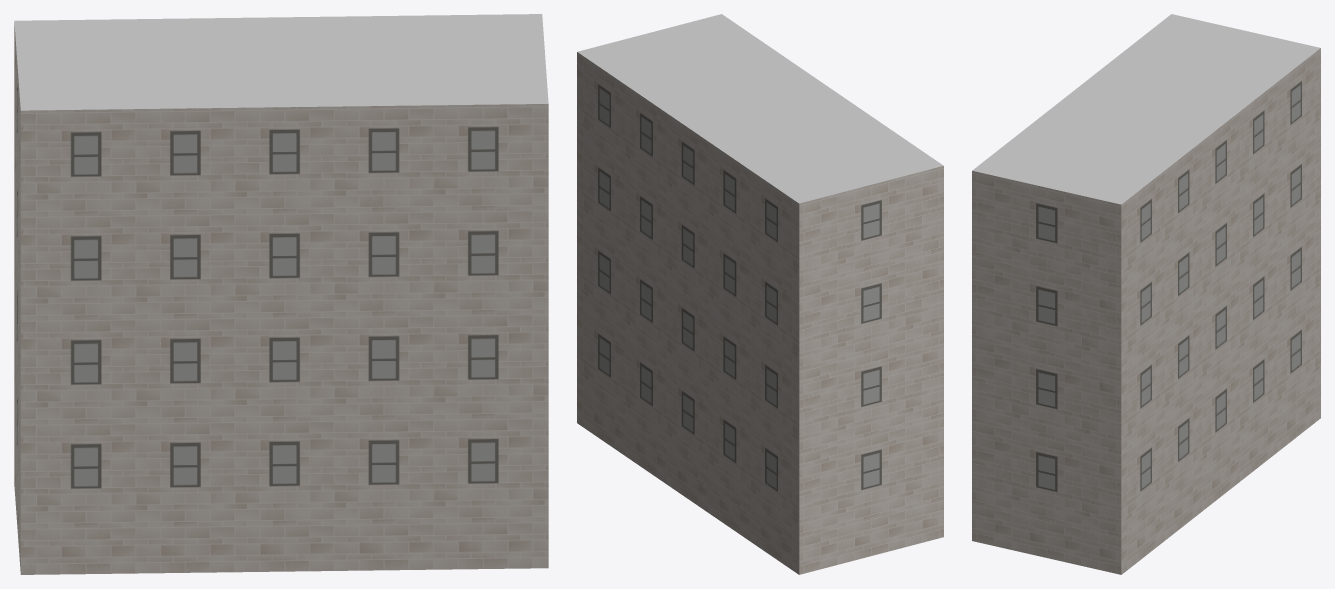
The model's file is building-1-0-429.dae.
3 views of the same model, side by side, from view 1: azimuth 30°, elevation 25°; view 2: azimuth 150°, elevation 25°; view 3: azimuth 270°, elevation 25° (orthographic). The views are drawn at different scales.
Visible parts, largest first — view 1: geopipeinodekxUtqLtg (×3); view 2: geopipeinodekxUtqLtg (×3); view 3: geopipeinodekxUtqLtg (×3).
Part boxes in pixels (x1=…): geopipeinodekxUtqLtg (×3): x1=14, y1=14, x2=548, y2=574; geopipeinodekxUtqLtg (×3): x1=577, y1=14, x2=943, y2=574; geopipeinodekxUtqLtg (×3): x1=972, y1=14, x2=1320, y2=574.
Bounding box in the file's own units: 17.12 × 13.24 × 15.5.
